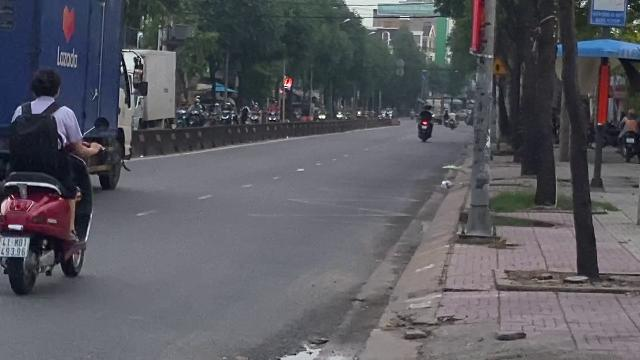licenseplate: (0, 236, 28, 256)
motorcyclist: (1, 65, 98, 297)
nohelmet: (28, 68, 62, 100)
